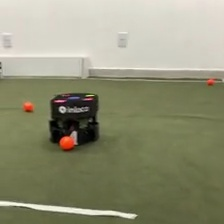ball: (57, 134, 75, 152), (22, 100, 35, 113), (206, 76, 215, 85)
goal: (1, 53, 90, 80)
robot: (47, 91, 102, 147)
